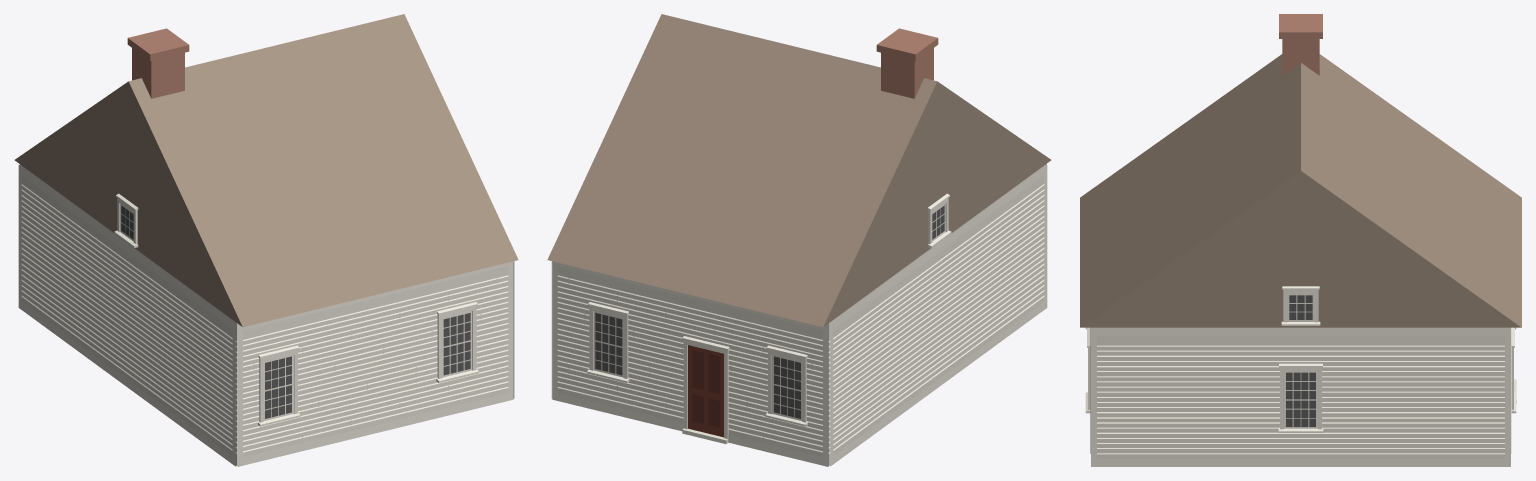
The model's file is recon_1835_north_d6_058__inferred_1835.glb.
3 views of the same model, side by side, from view 1: azimuth 30°, elevation 25°; view 2: azimuth 150°, elevation 25°; view 3: azimuth 270°, elevation 25° (orthographic). The views are drawn at different scales.
Parts seen in each view (by area): view 1: recon_1835_north_d6_058__inferred_1835; view 2: recon_1835_north_d6_058__inferred_1835; view 3: recon_1835_north_d6_058__inferred_1835.
Part boxes in pixels (x1=…): recon_1835_north_d6_058__inferred_1835: x1=14, y1=14, x2=518, y2=466; recon_1835_north_d6_058__inferred_1835: x1=547, y1=14, x2=1051, y2=466; recon_1835_north_d6_058__inferred_1835: x1=1080, y1=14, x2=1521, y2=466.
Bounding box in the file's own units: 7.14 × 8.1 × 9.92.
